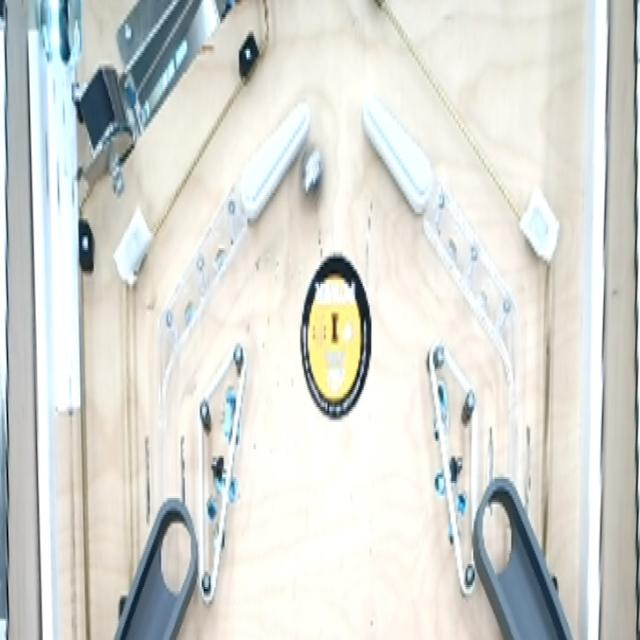ball: (297, 132, 329, 203)
flipper-left: (360, 87, 438, 221)
flipper-right: (237, 95, 314, 227)
